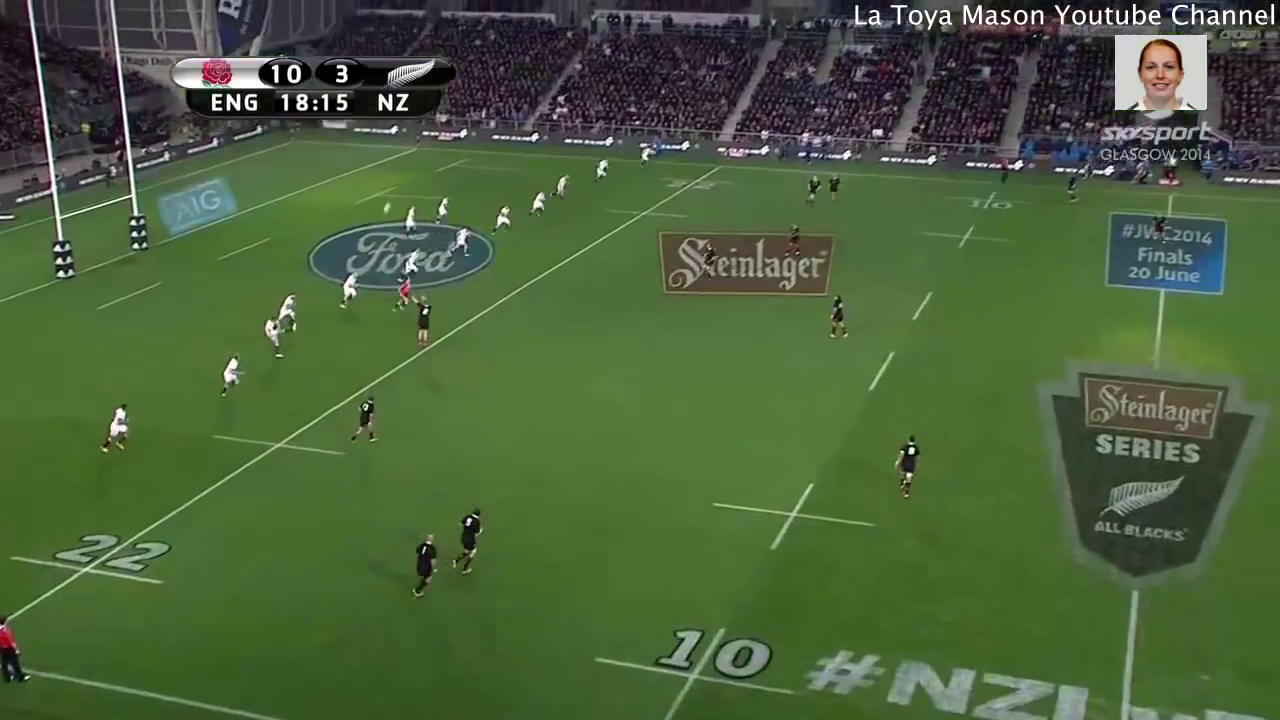10_metre: (593, 622, 799, 720), (703, 476, 880, 555), (918, 221, 1018, 252), (945, 187, 1031, 220)
ball: (378, 200, 396, 216)
player: (447, 500, 489, 583), (408, 530, 441, 602), (892, 431, 921, 504), (348, 392, 382, 451), (97, 400, 132, 457), (215, 347, 245, 399), (825, 286, 851, 343), (407, 296, 433, 348), (261, 312, 289, 357), (276, 292, 304, 332), (487, 201, 515, 241), (450, 223, 476, 262), (783, 218, 806, 262), (337, 270, 361, 312), (390, 277, 417, 312), (547, 167, 571, 206), (526, 186, 549, 224), (825, 167, 845, 208), (803, 171, 823, 211), (1149, 209, 1171, 245), (401, 247, 421, 285), (429, 192, 450, 228), (402, 203, 421, 240), (699, 244, 718, 280), (633, 143, 657, 171), (1064, 176, 1083, 206), (593, 153, 613, 181)
post: (5, 1, 152, 287)
